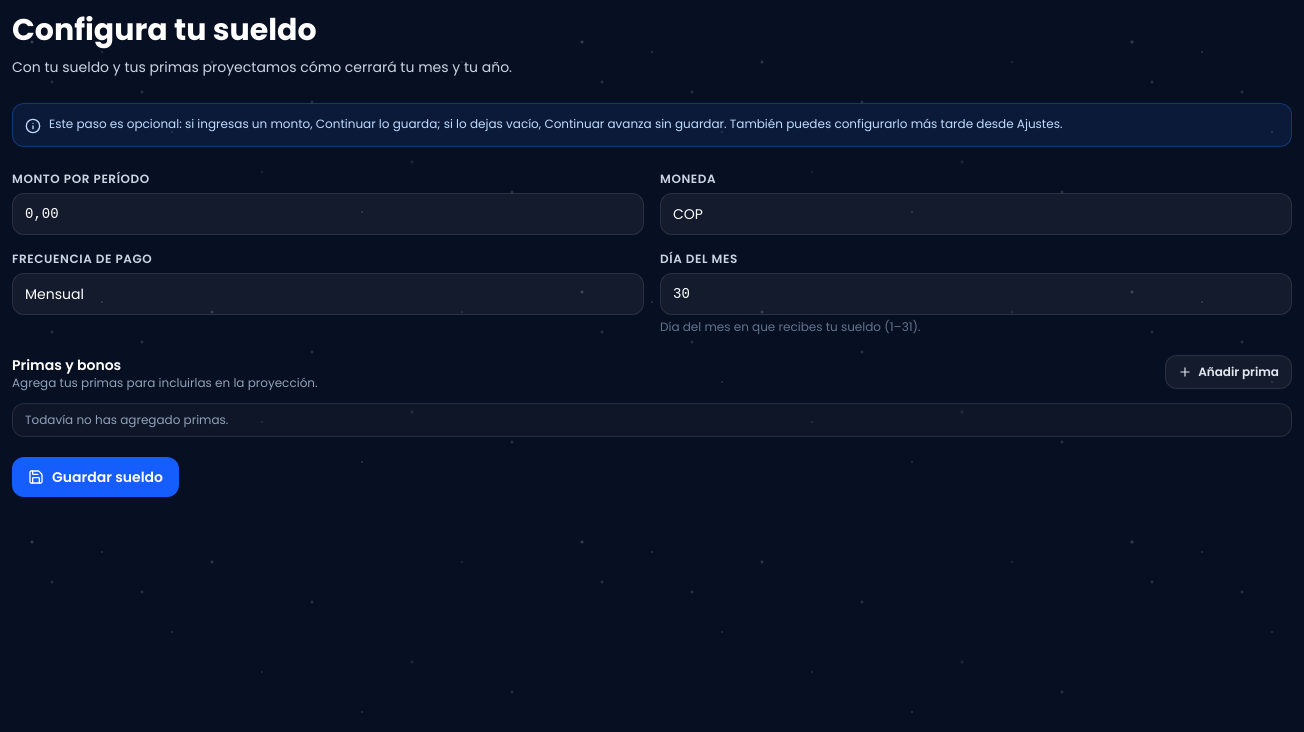
StepSalary › maps a session failure to the localized error (and stays usable)
Press 1 in the field labelled "Monto por período", box [12, 193, 644, 235]
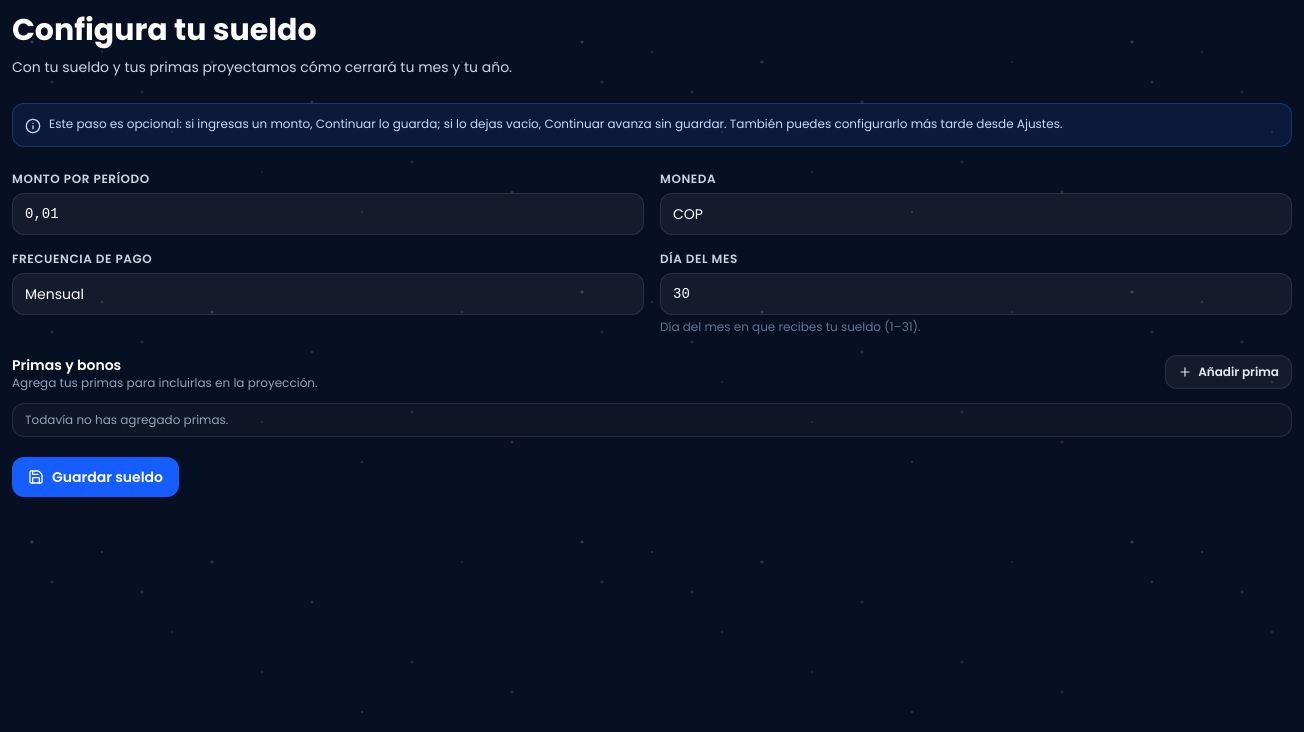
Press 0 in the field labelled "Monto por período", box [12, 193, 644, 235]
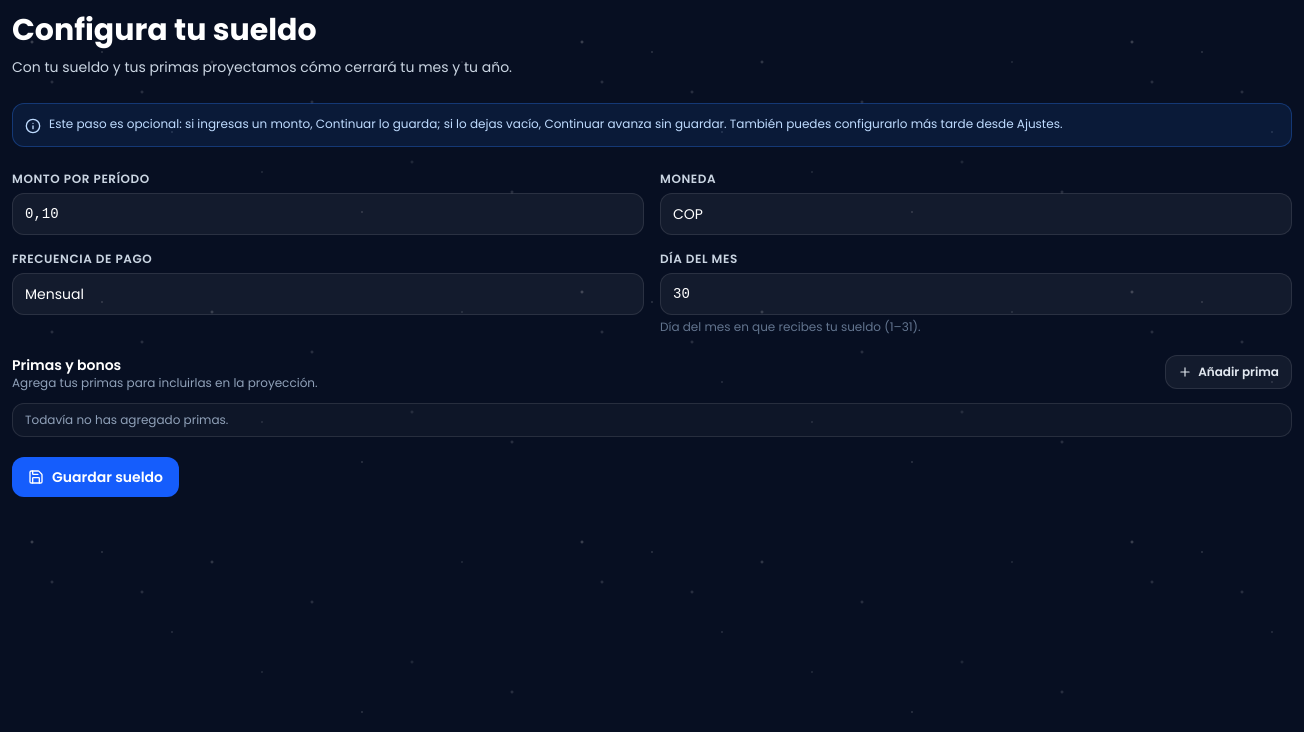
Press 0 in the field labelled "Monto por período", box [12, 193, 644, 235]
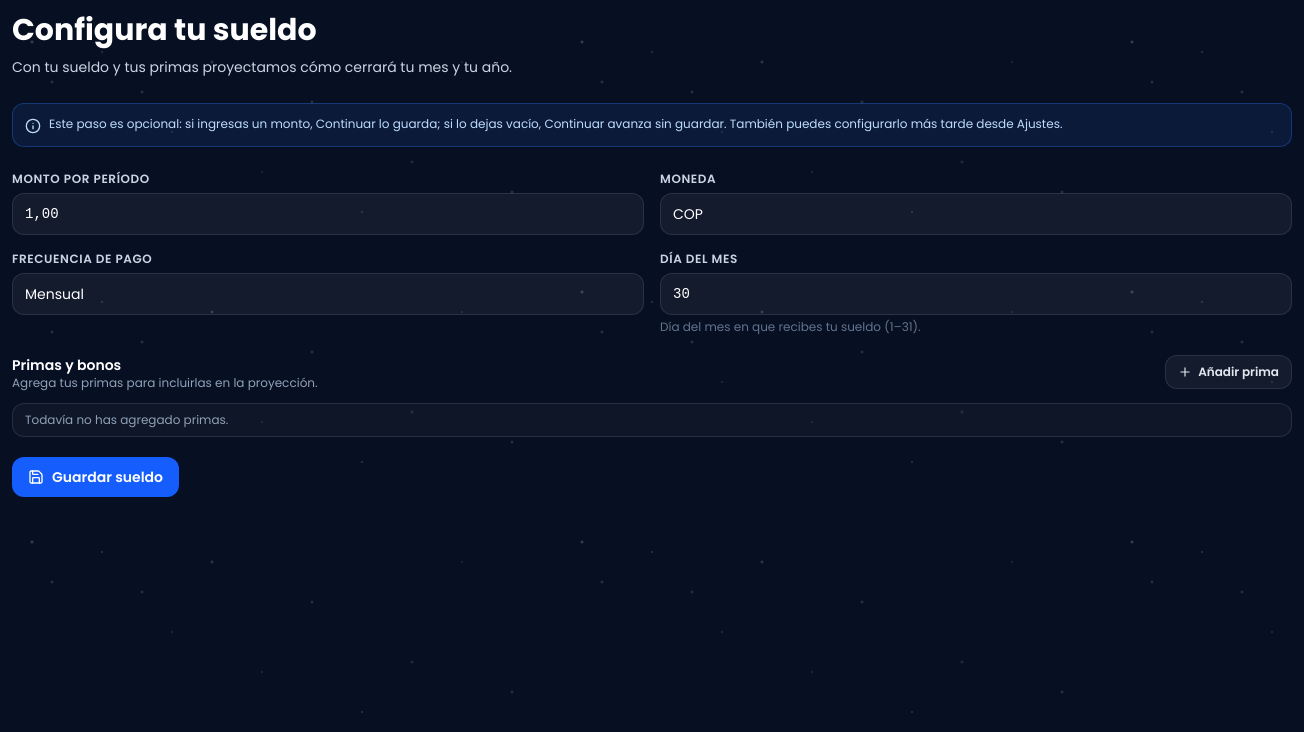
Press 0 in the field labelled "Monto por período", box [12, 193, 644, 235]
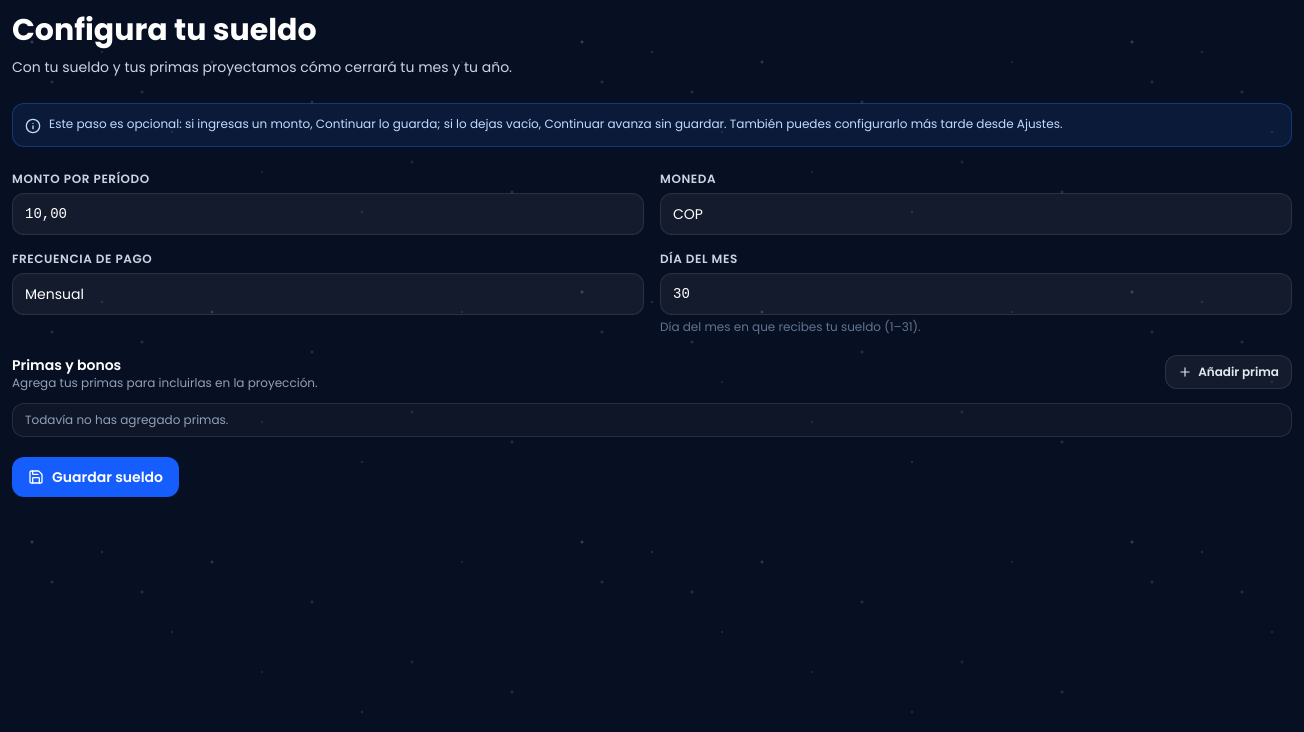
Click the button "Guardar sueldo".
click(96, 477)  # box [12, 457, 179, 497]
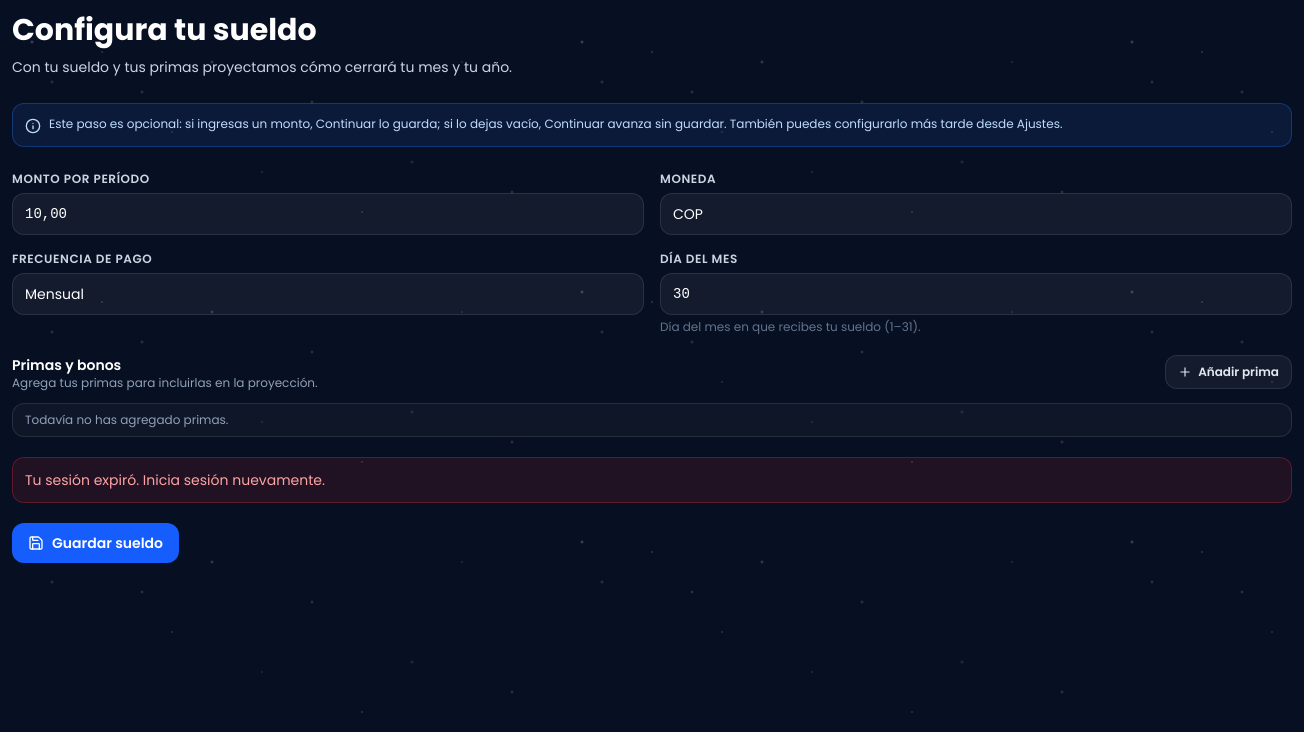
Check: the text "Tu sesión expiró. Inicia sesión nuevamente." is shown, box [12, 457, 1292, 503]
